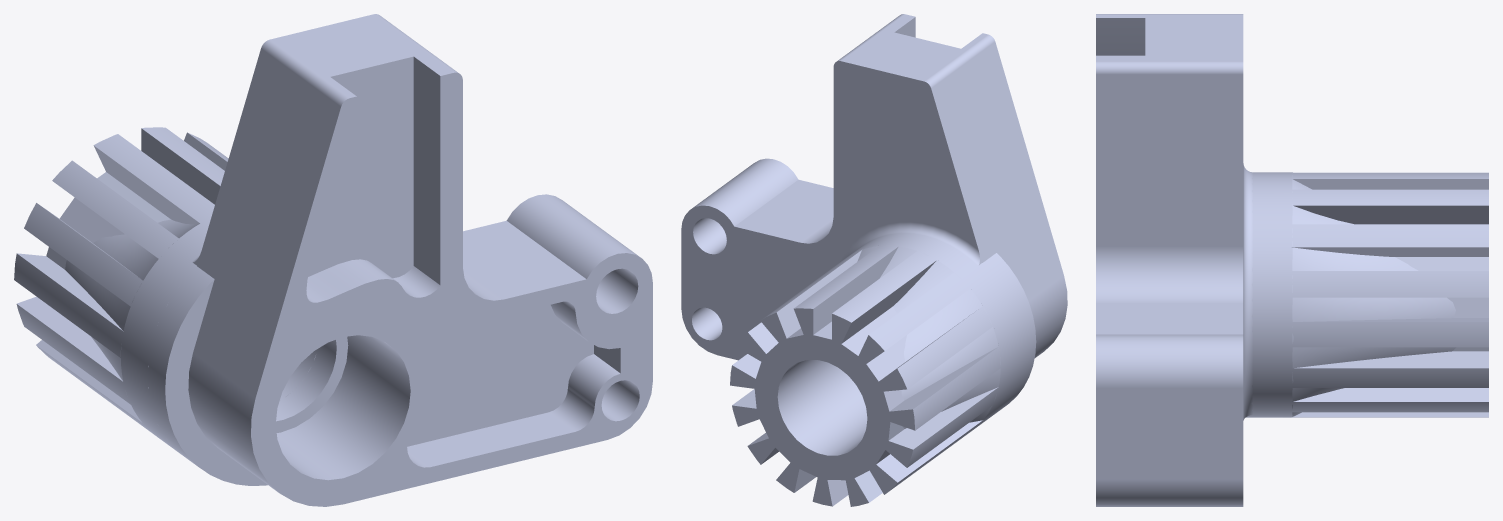
File: Practice11_1.glb
3 renders of one model, left to right at view 1: azimuth 30°, elevation 25°; view 2: azimuth 150°, elevation 25°; view 3: azimuth 270°, elevation 25°, orthographic. The views are drawn at different scales.
Parts seen in each view (by area): view 1: Practice11_1; view 2: Practice11_1; view 3: Practice11_1.
Boxes of the visible parts, x1=… form: Practice11_1: x1=14, y1=14, x2=652, y2=506; Practice11_1: x1=681, y1=14, x2=1067, y2=506; Practice11_1: x1=1096, y1=14, x2=1488, y2=506.
Bounding box in the file's own units: 0.4599 × 0.4432 × 0.4.
